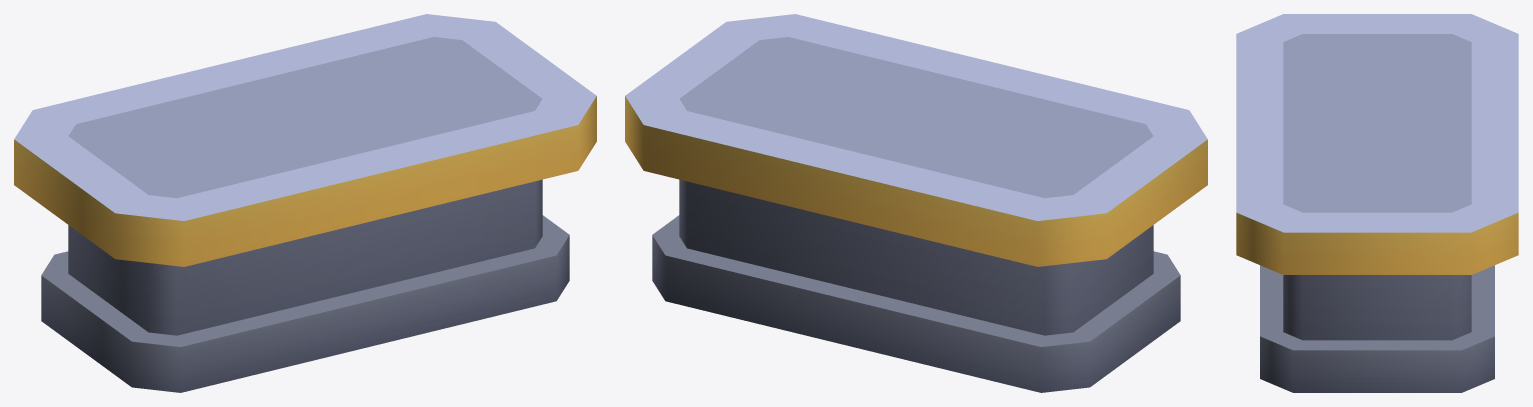
File: station.table.glb
3 views of the same model, side by side, from view 1: azimuth 30°, elevation 25°; view 2: azimuth 150°, elevation 25°; view 3: azimuth 270°, elevation 25° (orthographic). The views are drawn at different scales.
Parts seen in each view (by area): view 1: table; view 2: table; view 3: table.
Boxes of the visible parts, x1,y1,x2,y2 form: table: (14,14,596,392); table: (625,14,1207,392); table: (1236,14,1518,392).
Bounding box in the file's own units: 1.9 × 0.691 × 1.04.
Materials: 1 (1 with a texture image).
